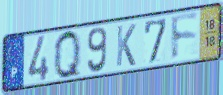4: (27, 32, 51, 83)
7: (142, 16, 169, 65)
9: (86, 26, 109, 75)
F: (169, 11, 200, 63)
K: (115, 22, 138, 68)
Q: (53, 28, 83, 81)
